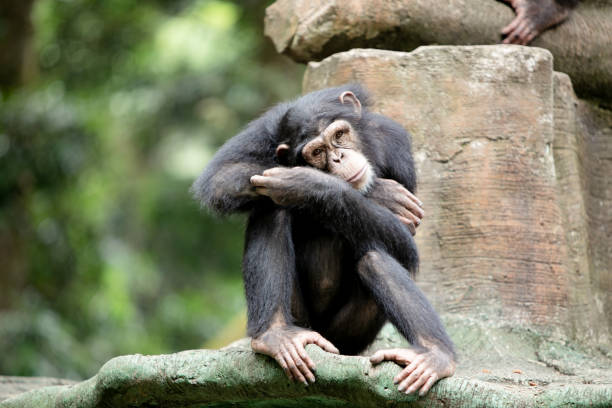chimpanzee: (277, 103, 394, 211)
